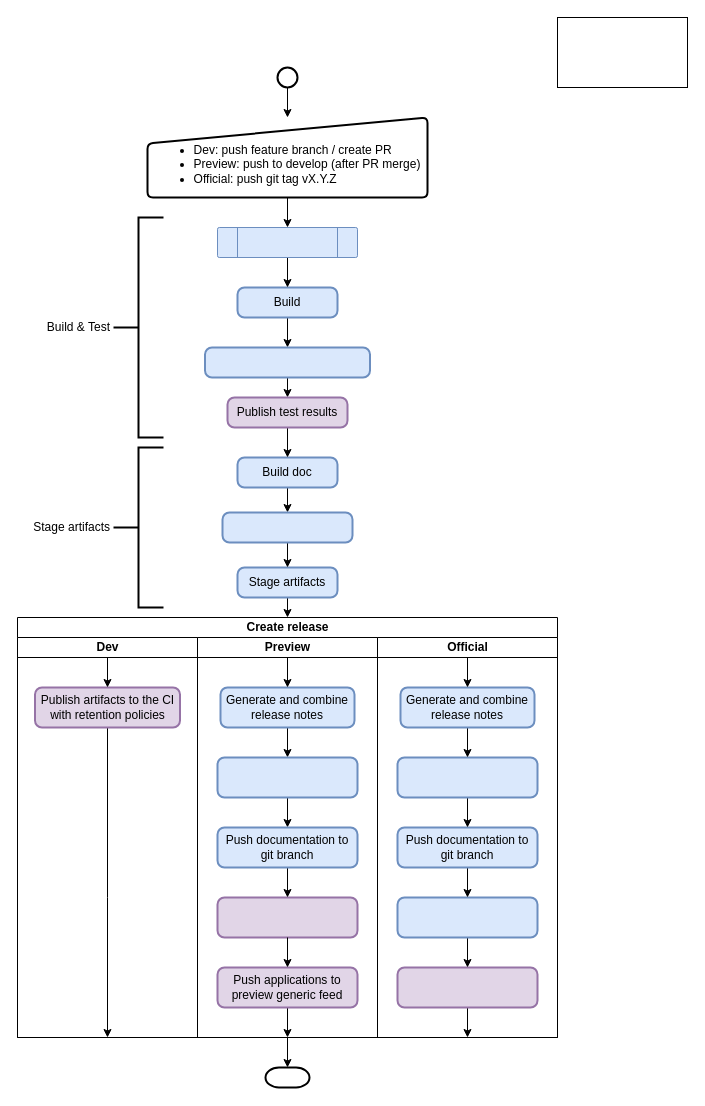
The diagram is 705 pixels wide and 1106 high, and some of its shapes have lost their labels. Here are the shapes that lost their labels. From the top down, the centre of each, then its label:
(622,52): Legend : - Blue : Cake script - Violet : CI script
(287,242): Define version
(287,362): Run code analyzers and tests
(287,527): Create license files
(287,777): Overwrite "preview" documents
(467,777): Add new documentation version
(287,917): Push libraries to preview NuGet feed
(467,917): Create GitHub release and publish artifacts
(467,987): Push libraries to nuget.org
